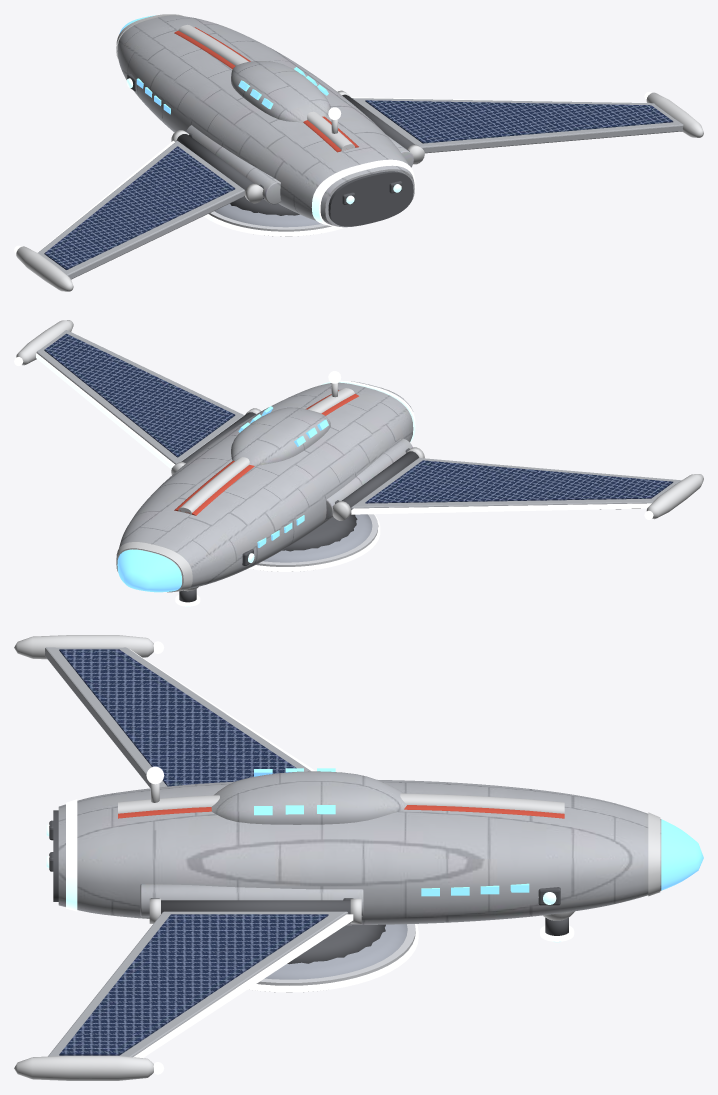
File: survey_satellite.glb
The picture shows the model from 3 angles, top to bottom: view 1: azimuth 30°, elevation 25°; view 2: azimuth 150°, elevation 25°; view 3: azimuth 270°, elevation 25°; orthographic projection. The views are drawn at different scales.
Visible parts, largest first — view 1: Body, PanelL, PanelR, Dish; view 2: Body, PanelL, PanelR, Dish; view 3: Body, PanelR, PanelL, Dish.
Part boxes in pixels (x1,y1,x2,y2): Body: [116, 14, 415, 227]; PanelL: [14, 130, 263, 291]; PanelR: [337, 90, 703, 164]; Dish: [203, 196, 345, 236]; Body: [116, 380, 415, 592]; PanelL: [332, 447, 703, 520]; PanelR: [14, 320, 260, 474]; Dish: [248, 514, 380, 571]; Body: [49, 768, 703, 925]; PanelR: [14, 898, 361, 1080]; PanelL: [14, 635, 315, 788]; Dish: [248, 924, 418, 992].
Size of the model in its own units: 2.74 by 0.5335 by 1.86.
20 materials, 2 textured.
